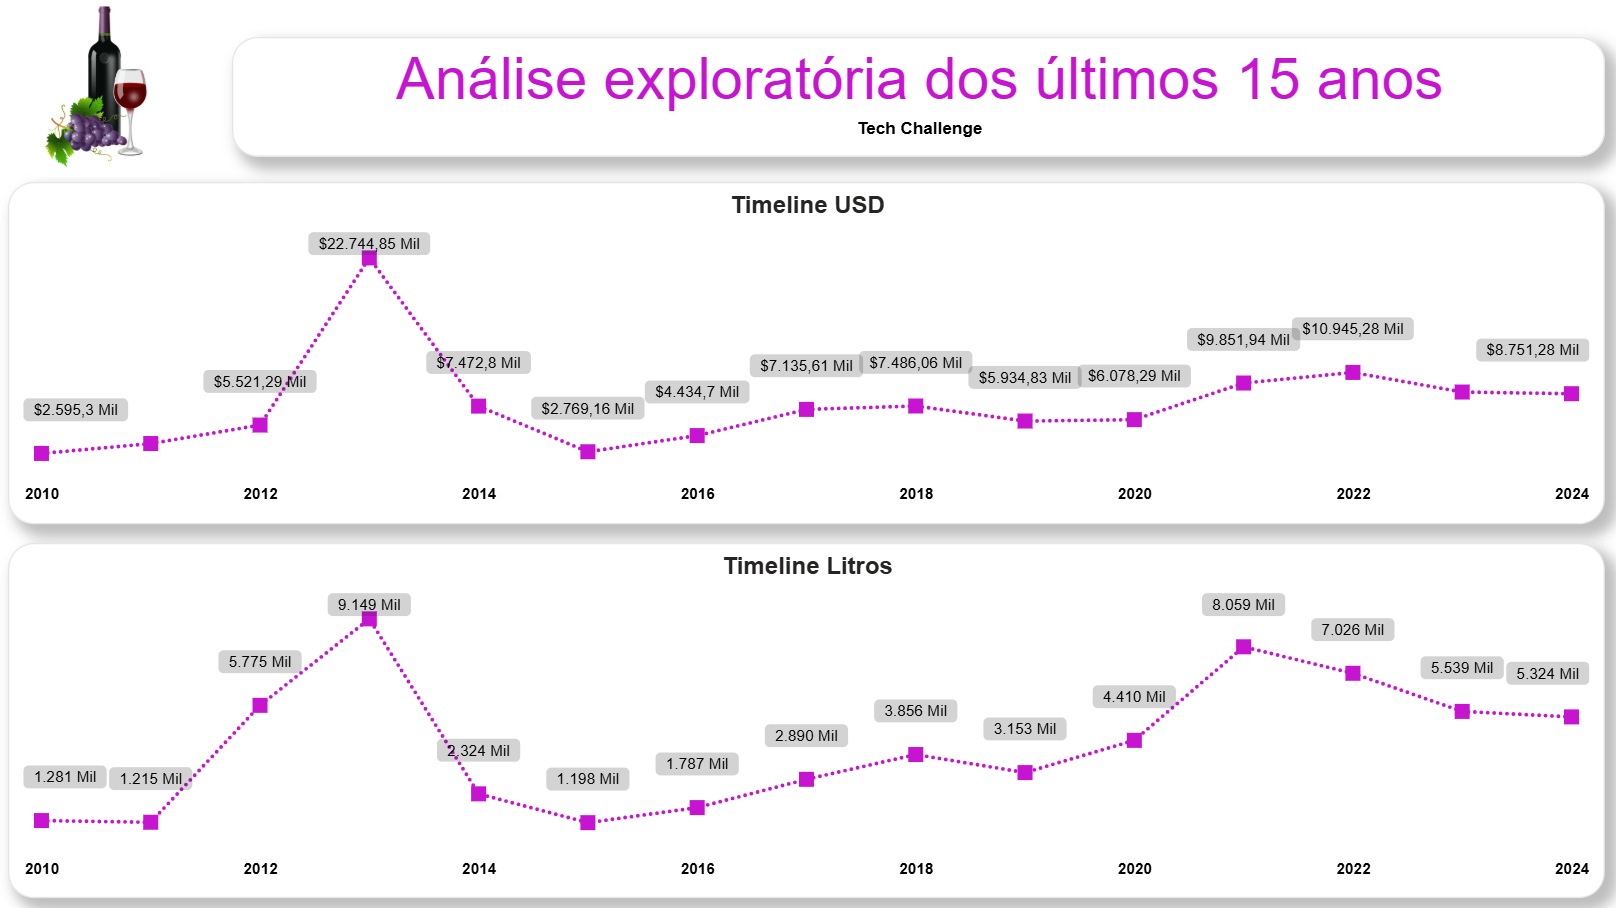

What the dashboard file says about the page in this screenshot:
{"tool":"powerbi","page":{"name":"Timeline","canvas":[1280,720],"ordinal":3},"visuals":[{"type":"textbox","title":"Análise exploratória dos últimos 15 anos ","box":[198.4,42.8,1067,93.4],"z":0},{"type":"lineChart","title":"Timeline USD","fields":{"Y":["Sum(Exportacao.Valor em USD)"],"Category":["Exportacao.Ano"]},"box":[24.3,155.6,1241.1,265.5],"z":1000},{"type":"lineChart","title":"Timeline Litros","fields":{"Y":["Sum(Exportacao.Litros exportados)"],"Category":["Exportacao.Ano"]},"box":[24.3,435.7,1241.1,276.2],"z":2000},{"type":"image","box":[12.6,6.8,160.5,148.8],"z":3000}]}

Visuals, with their boxes in screenshot pixels (x1, y1, x2, y2), scaled from the page's 1280x720 canvas onto the 1616x908 screenshot:
"Análise exploratória dos últimos 15 anos " textbox: x1=250, y1=54, x2=1598, y2=172
"Timeline USD" lineChart: x1=31, y1=196, x2=1598, y2=531
"Timeline Litros" lineChart: x1=31, y1=549, x2=1598, y2=898
image: x1=16, y1=9, x2=219, y2=196
